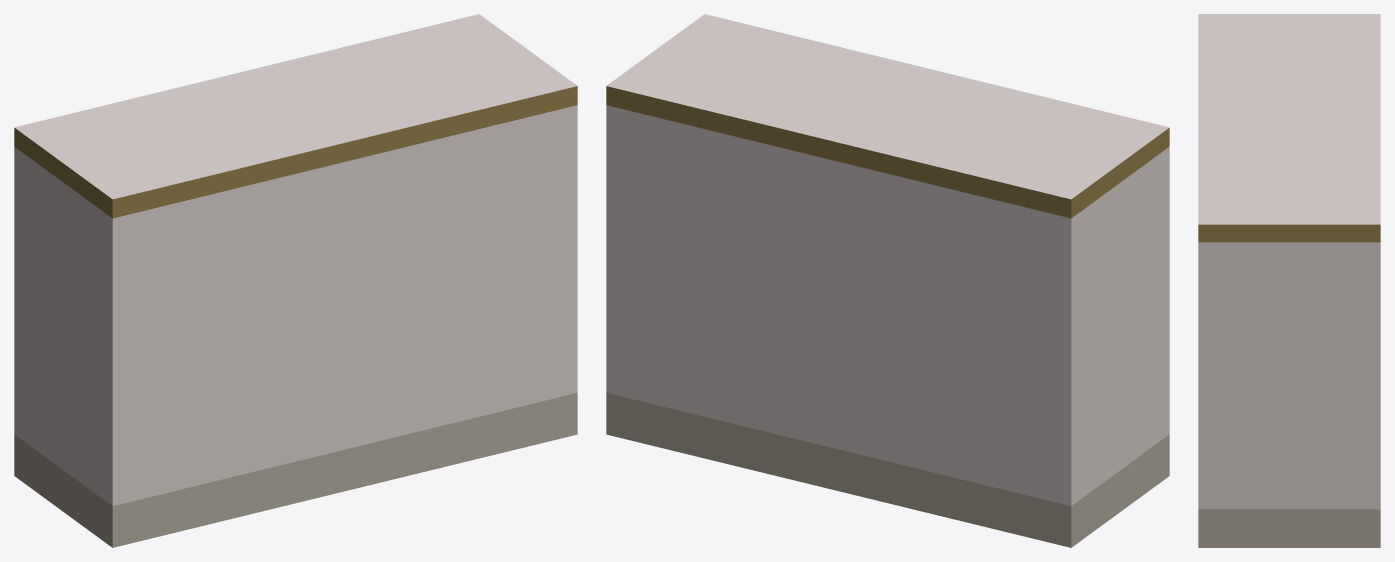
Rendered from fbx_school_outdoor_building1.fbx.
3 views of the same model, side by side, from view 1: azimuth 30°, elevation 25°; view 2: azimuth 150°, elevation 25°; view 3: azimuth 270°, elevation 25° (orthographic). The views are drawn at different scales.
Parts seen in each view (by area): view 1: fbx_school_outdoor_building1; view 2: fbx_school_outdoor_building1; view 3: fbx_school_outdoor_building1.
Part boxes in pixels (<box>): fbx_school_outdoor_building1: <box>14,14,577,547</box>; fbx_school_outdoor_building1: <box>606,14,1169,547</box>; fbx_school_outdoor_building1: <box>1198,14,1380,547</box>.
Bounding box in the file's own units: 5.84 × 4.19 × 2.14.
Materials: 1 (1 with a texture image).
